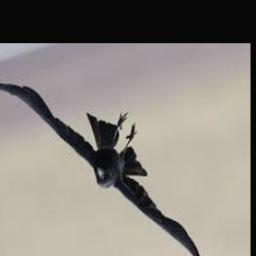Crow: (0, 80, 217, 256)
